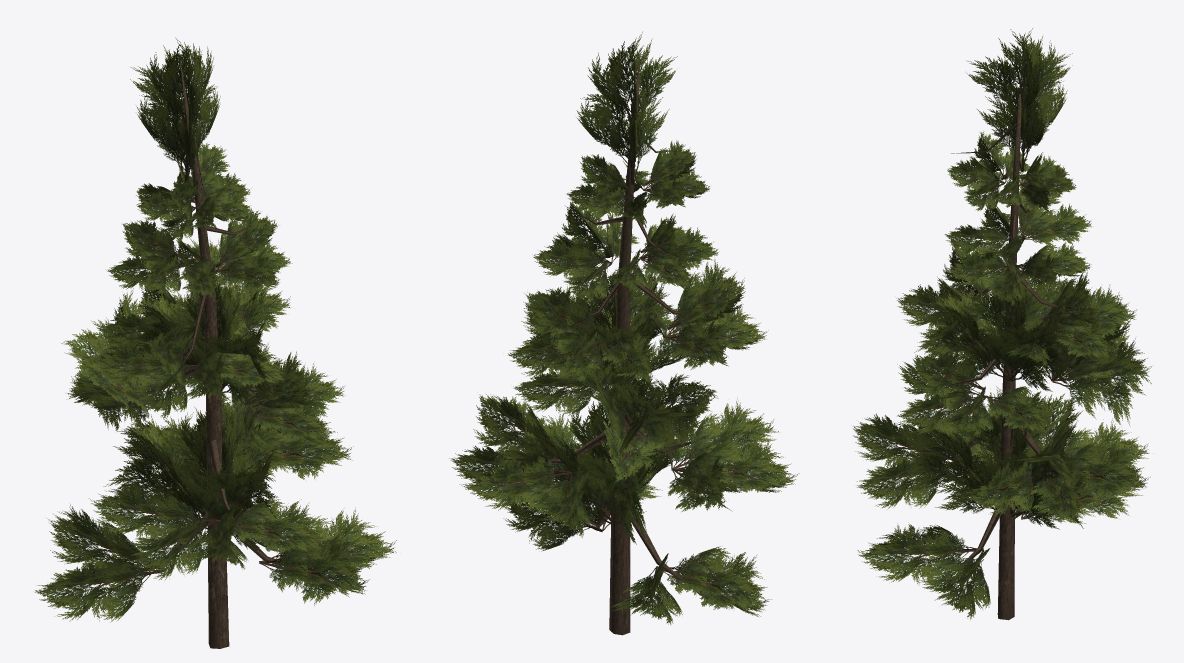
Rendered from tree_small_01.fbx.
3 renders of one model, left to right at view 1: azimuth 30°, elevation 25°; view 2: azimuth 150°, elevation 25°; view 3: azimuth 270°, elevation 25°, orthographic. The views are drawn at different scales.
Parts seen in each view (by area): view 1: tree_small_01; view 2: tree_small_01; view 3: tree_small_01.
Part boxes in pixels (x1,y1,x2,y2): tree_small_01: [35, 37, 396, 648]; tree_small_01: [450, 32, 799, 635]; tree_small_01: [853, 28, 1151, 620].
Size of the model in its own units: 6.43 by 5.99 by 11.28.
